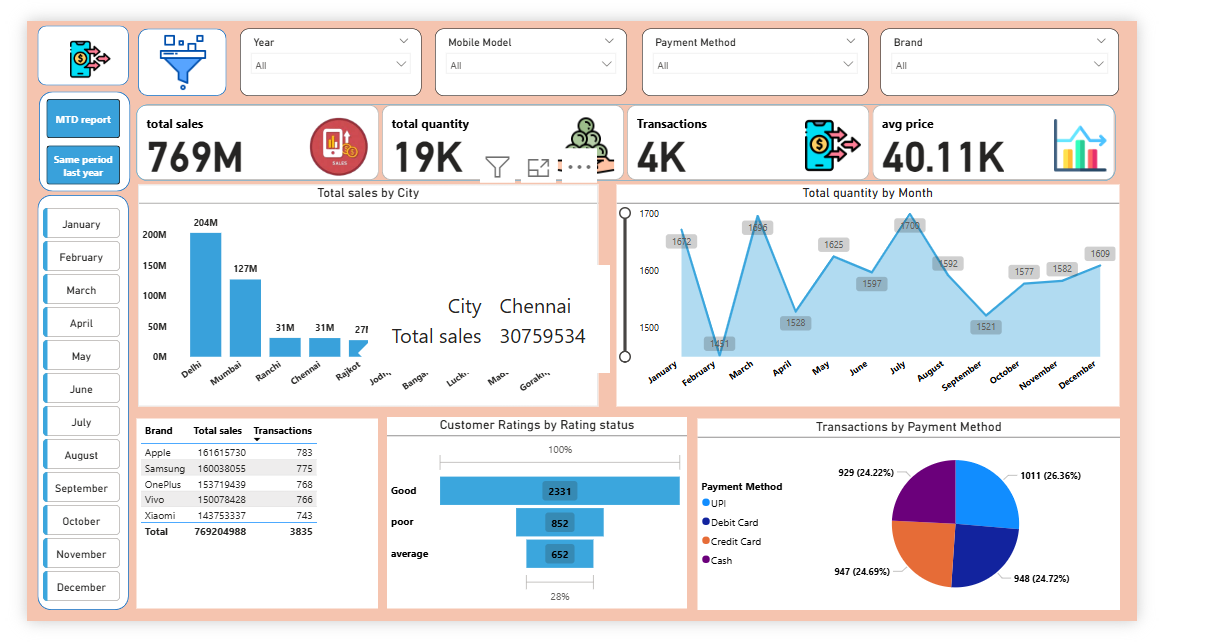

This screenshot's page, from the dashboard's own definition file:
{"tool":"powerbi","page":{"name":"Dashboard","canvas":[1480,800],"ordinal":0},"visuals":[{"type":"shape","box":[13.3,6.7,121.7,80],"z":0},{"type":"image","box":[52.9,17.1,64.3,65.7],"z":1000},{"type":"shape","box":[15,93.3,121.7,133.3],"z":2000},{"type":"shape","box":[13.3,231.7,121.7,553.3],"z":3000},{"type":"advancedSlicerVisual","fields":{"Values":["custom_calender.date.Variation.Date Hierarchy.Month"]},"box":[15,243.3,113.3,540],"z":4000},{"type":"cardVisual","fields":{"Data":["sales_data.total sales","sales_data.total quantity","sales_data.Transactions","sales_data.avg price"]},"box":[140,106,1318,112],"z":5000},{"type":"shape","box":[148,10,118,90],"z":6000},{"type":"image","box":[112,12,192,86],"z":7000},{"type":"slicer","fields":{"Values":["sales_data.Mobile Model"]},"box":[544,10,256,90],"z":8000},{"type":"slicer","fields":{"Values":["sales_data.Payment Method"]},"box":[820,10,302,90],"z":9000},{"type":"slicer","fields":{"Values":["sales_data.Brand"]},"box":[1138,10,318,90],"z":10000},{"type":"areaChart","fields":{"Category":["custom_calender.date.Variation.Date Hierarchy.Month"],"Y":["sales_data.total quantity"]},"box":[786,218,670,296],"z":14000},{"type":"tableEx","fields":{"Values":["sales_data.Brand","sales_data.total sales","sales_data.Transactions"]},"box":[146.7,530,321.7,253.3],"z":15000},{"type":"funnel","fields":{"Y":["CountNonNull(sales_data.Customer Ratings)"],"Category":["sales_data.Rating status"]},"box":[480,528.3,400,255],"z":16000},{"type":"pieChart","fields":{"Category":["sales_data.Payment Method"],"Y":["sales_data.Transactions"]},"box":[893.3,530,563.3,255],"z":17000},{"type":"pageNavigator","box":[25,103.3,98.3,115],"z":18000},{"type":"clusteredColumnChart","fields":{"Y":["sales_data.total sales"],"Category":["sales_data.City"]},"box":[148,218,614,296],"z":18001},{"type":"slicer","fields":{"Values":["custom_calender.date.Variation.Date Hierarchy.Year"]},"box":[284,10,242,90],"z":18002}]}

Visuals, with their boxes in screenshot pixels (x1, y1, x2, y2), scaled from the page's 1480x800 canvas onto the 1217x642 screenshot:
shape: 11 5 111 70
image: 43 14 96 66
shape: 12 75 112 182
shape: 11 186 111 630
advancedSlicerVisual - custom_calender.date.Variation.Date Hierarchy.Month: 12 195 106 629
cardVisual - sales_data.total sales x sales_data.total quantity: 115 85 1199 175
shape: 122 8 219 80
image: 92 10 250 79
slicer - sales_data.Mobile Model: 447 8 658 80
slicer - sales_data.Payment Method: 674 8 923 80
slicer - sales_data.Brand: 936 8 1197 80
areaChart - custom_calender.date.Variation.Date Hierarchy.Month x sales_data.total quantity: 646 175 1197 412
tableEx - sales_data.Brand x sales_data.total sales: 121 425 385 629
funnel - CountNonNull(sales_data.Customer Ratings) x sales_data.Rating status: 395 424 724 629
pieChart - sales_data.Payment Method x sales_data.Transactions: 735 425 1198 630
pageNavigator: 21 83 101 175
clusteredColumnChart - sales_data.total sales x sales_data.City: 122 175 627 412
slicer - custom_calender.date.Variation.Date Hierarchy.Year: 234 8 433 80
